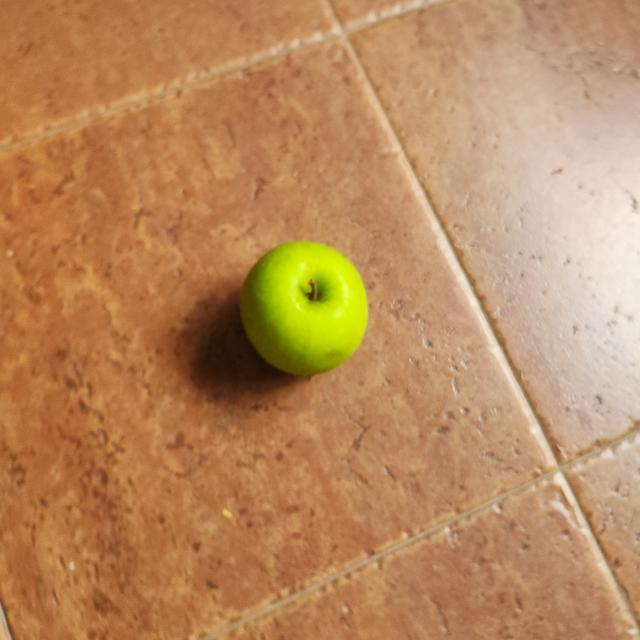apple: (227, 238, 375, 388)
